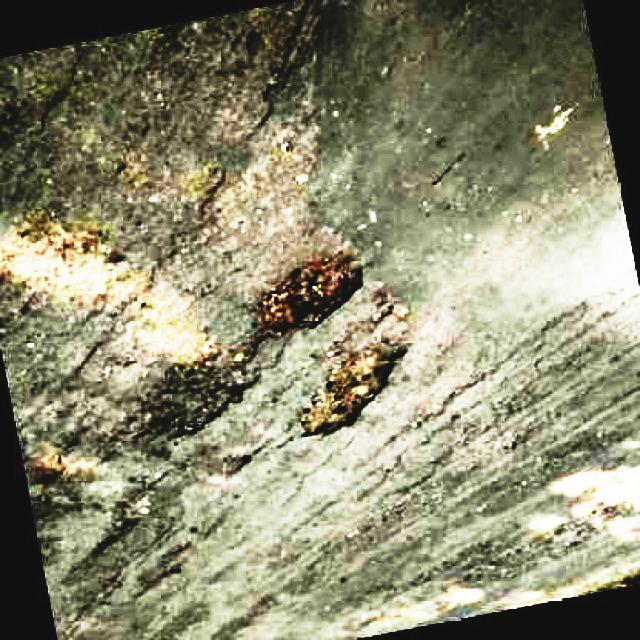pothole: (300, 335, 417, 443), (142, 348, 269, 435), (260, 254, 369, 340)
